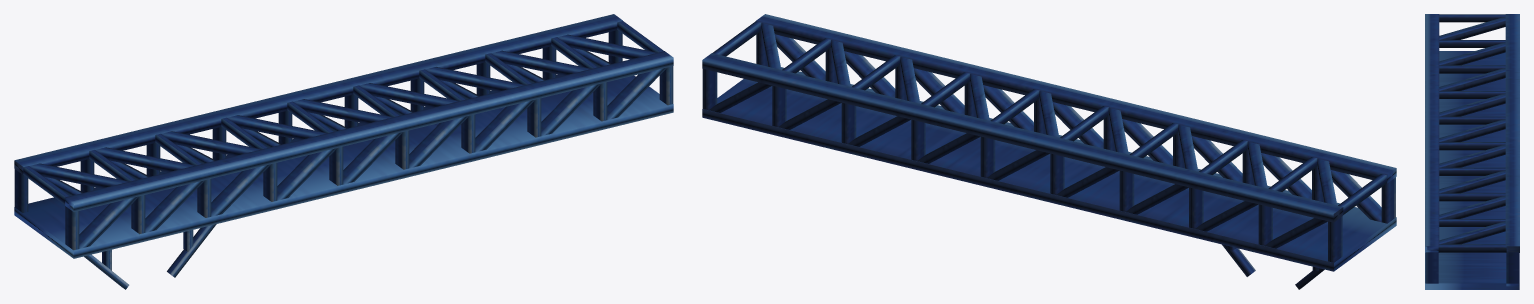
Rendered from cj_tiejia1.fbx.
3 renders of one model, left to right at view 1: azimuth 30°, elevation 25°; view 2: azimuth 150°, elevation 25°; view 3: azimuth 270°, elevation 25°, orthographic. The views are drawn at different scales.
Visible parts, largest first — view 1: cj_tiejia2, polySurface4, polySurface5; view 2: cj_tiejia2; view 3: cj_tiejia2.
Boxes of the visible parts, left/top/right/bottom form: cj_tiejia2: left=14, top=14, right=673, bottom=258; polySurface4: left=167, top=224, right=216, bottom=277; polySurface5: left=84, top=249, right=129, bottom=289; cj_tiejia2: left=702, top=14, right=1396, bottom=271; cj_tiejia2: left=1425, top=14, right=1519, bottom=289.
Bounding box in the file's own units: 3046 × 564 × 525.
